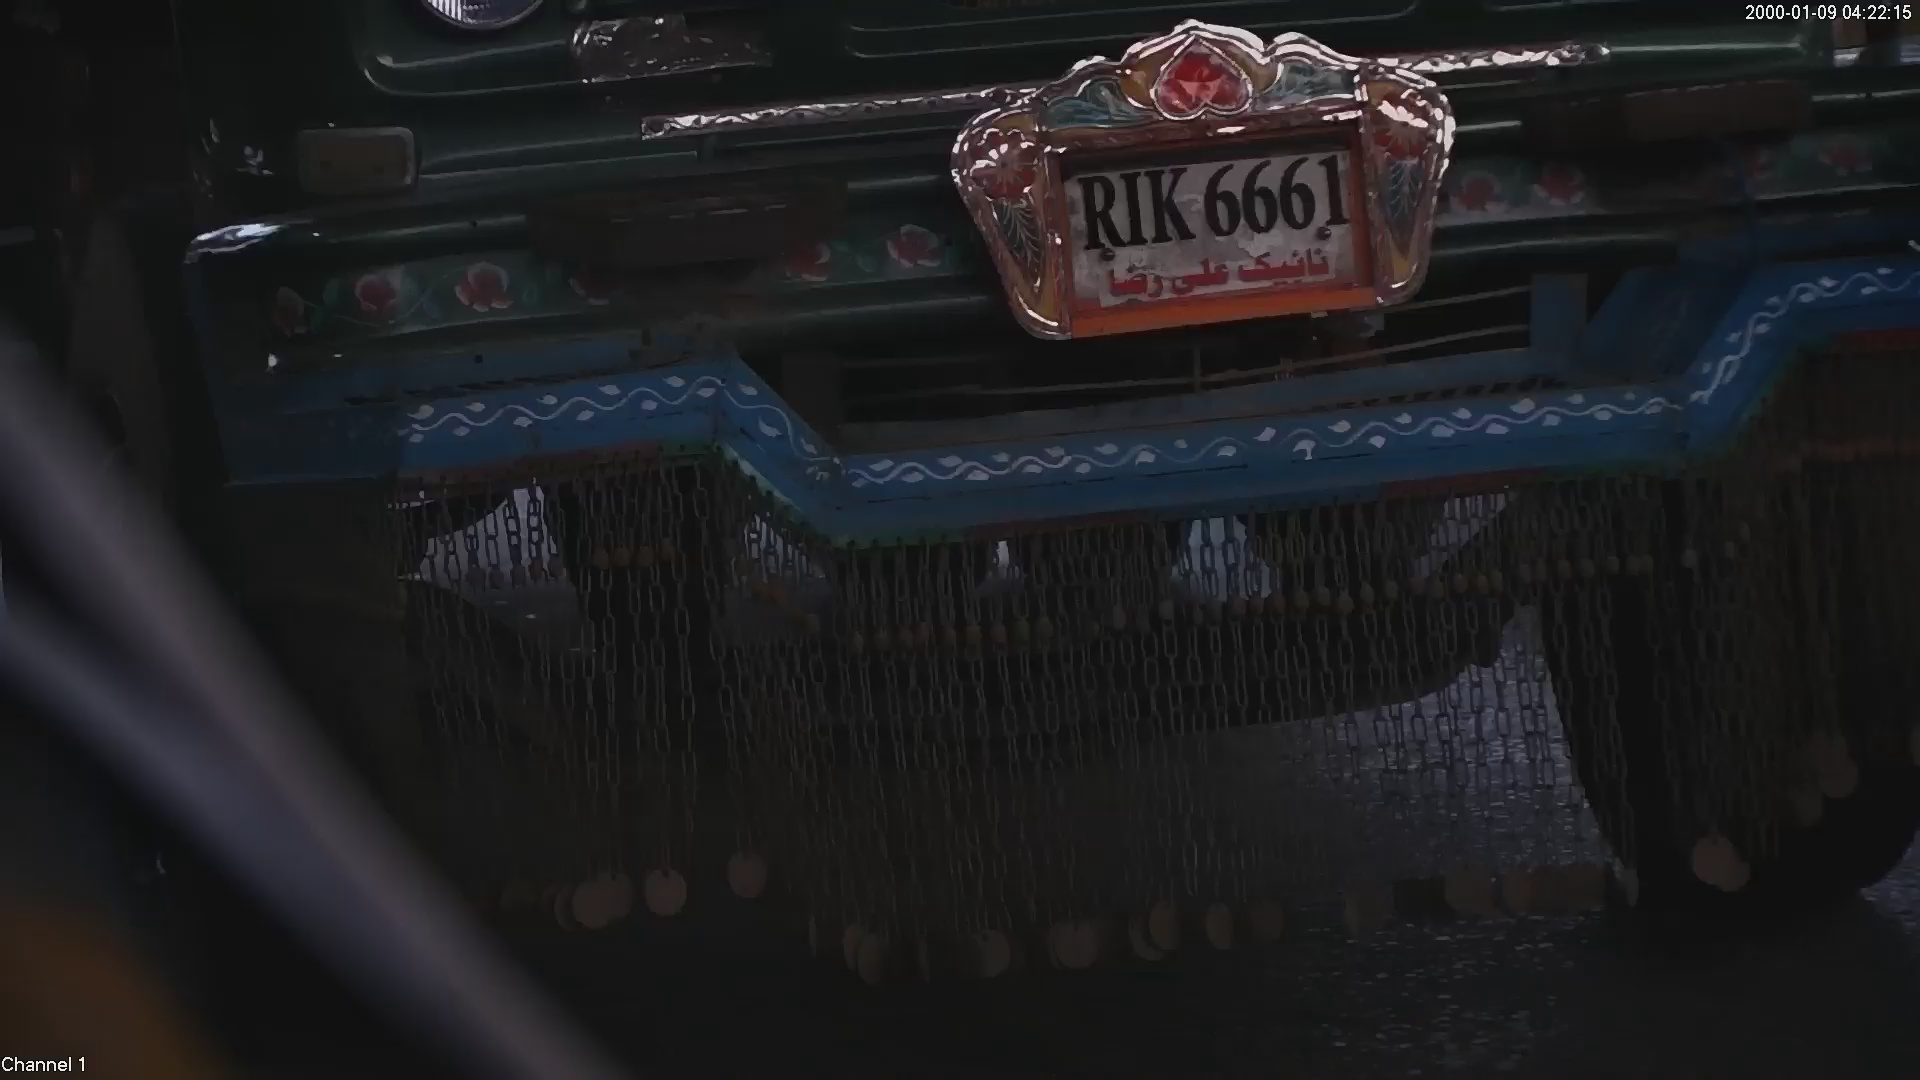Number_Plate: (993, 81, 1408, 318)
